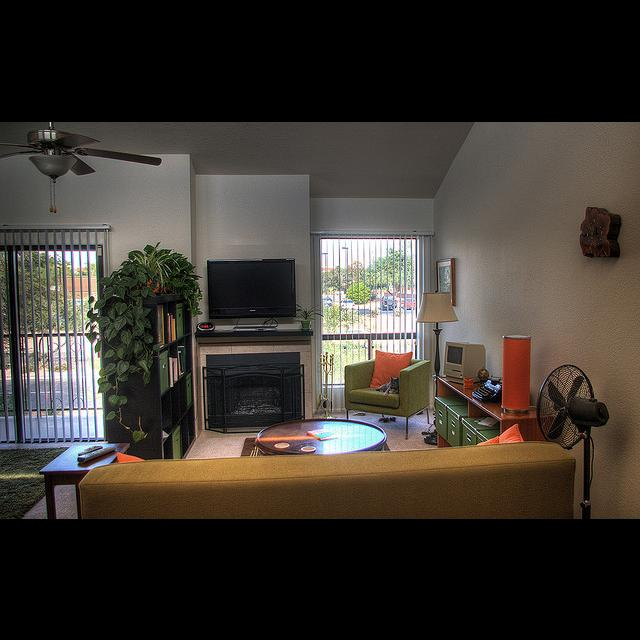Flat-Panel-TV: (203, 257, 300, 331)
TV-Remote-Control: (77, 447, 116, 463), (78, 445, 103, 456)
